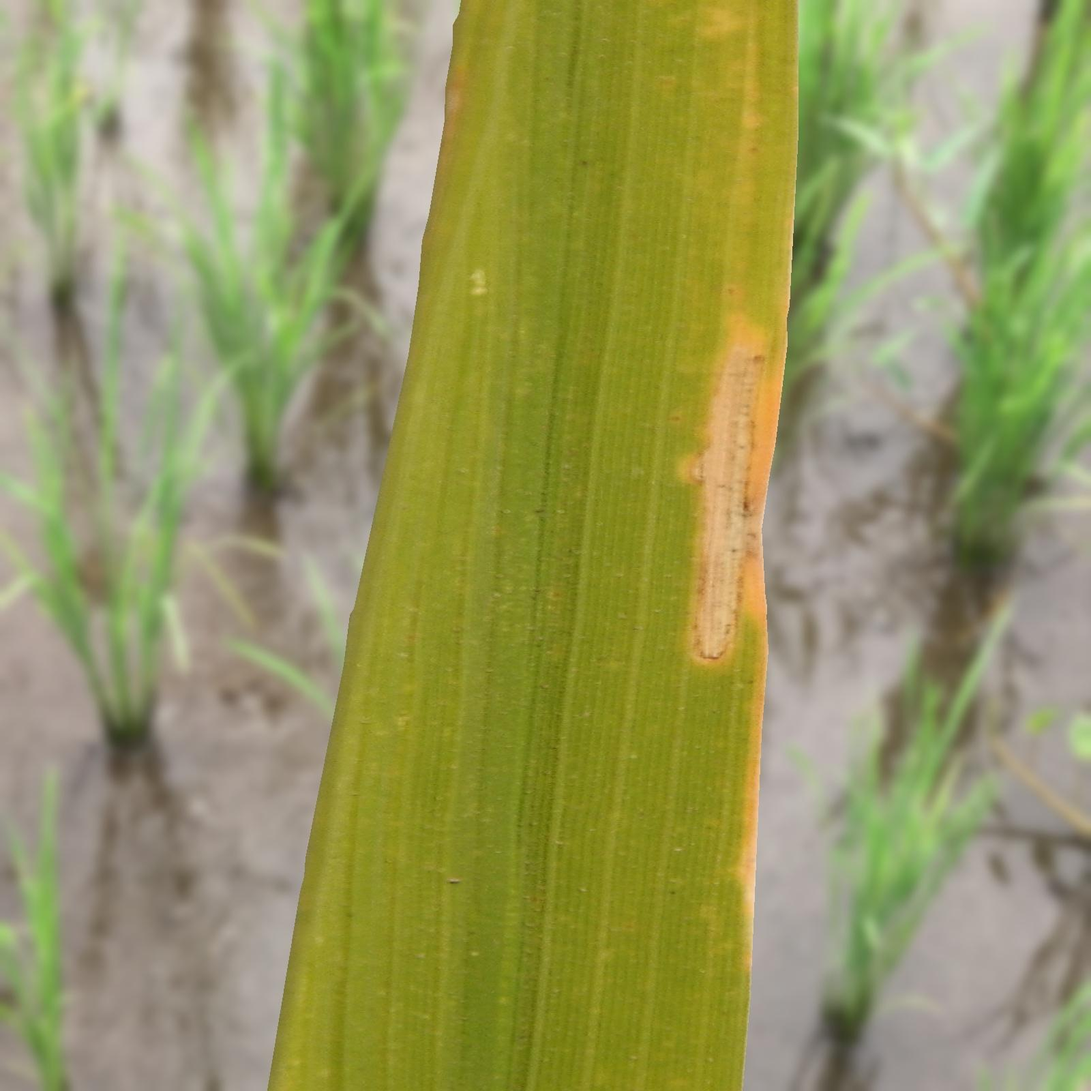BLS: (679, 314, 782, 974)
LEAF: (267, 0, 798, 1090)
